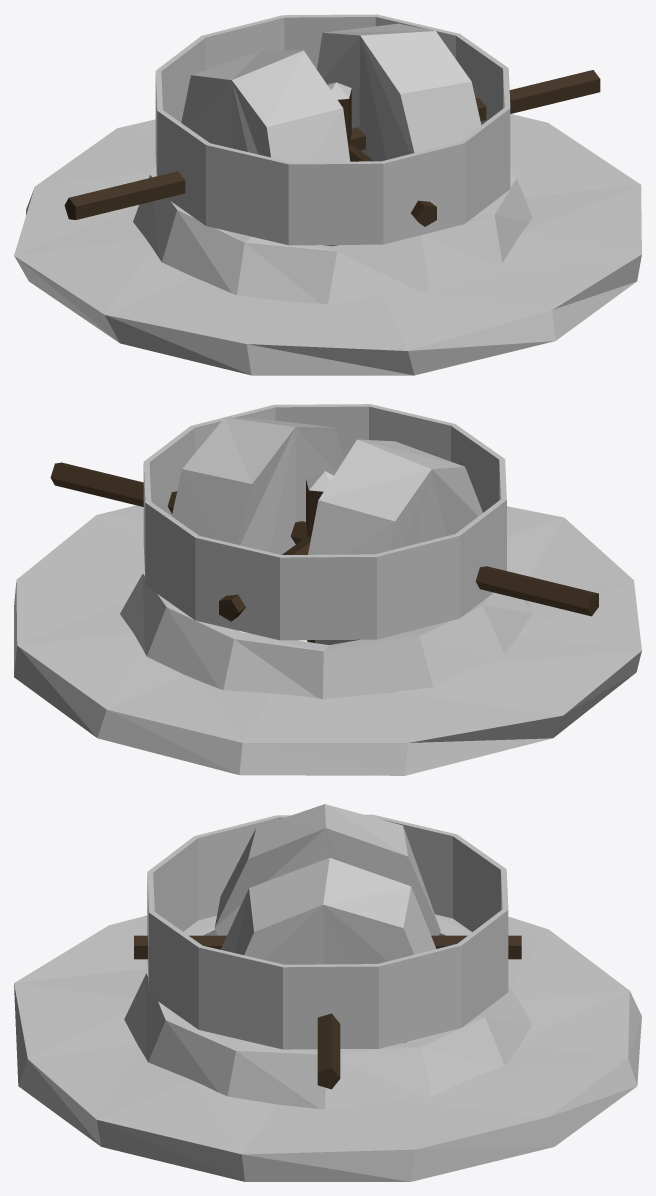
The model's file is STONEMILL_OM.OBJ.
3 views of the same model, one above another, from view 1: azimuth 30°, elevation 25°; view 2: azimuth 150°, elevation 25°; view 3: azimuth 270°, elevation 25° (orthographic). The views are drawn at different scales.
Parts seen in each view (by area): view 1: STONEMILL_OM; view 2: STONEMILL_OM; view 3: STONEMILL_OM.
Boxes of the visible parts, bbox=[...] form: STONEMILL_OM: bbox=[14, 14, 641, 375]; STONEMILL_OM: bbox=[14, 404, 641, 775]; STONEMILL_OM: bbox=[14, 804, 641, 1181].
Size of the model in its own units: 10.13 by 3.66 by 9.99.
